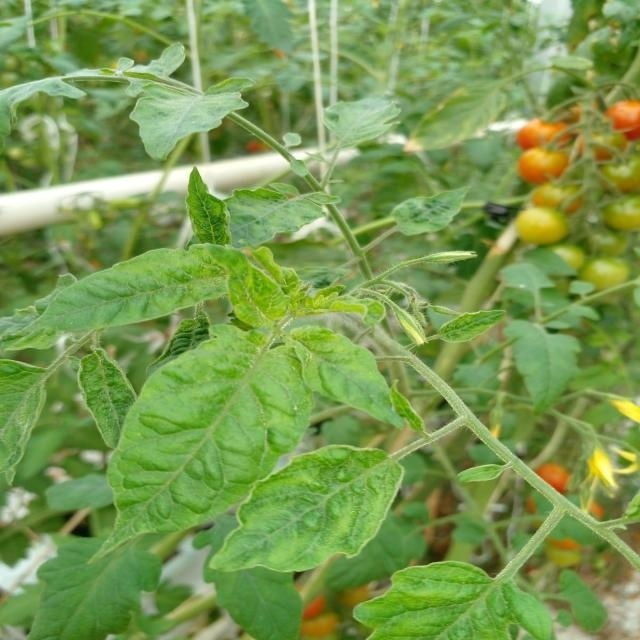T_L_H: (101, 326, 312, 554), (29, 249, 227, 332), (286, 327, 404, 428), (131, 85, 249, 161)
T_L_R: (212, 446, 404, 572), (354, 563, 553, 640), (206, 246, 291, 329), (79, 350, 138, 449), (1, 361, 48, 482), (298, 287, 386, 327), (186, 169, 231, 246), (439, 311, 506, 344)
T_S_R: (386, 355, 639, 564), (508, 459, 639, 569), (496, 510, 566, 582)
